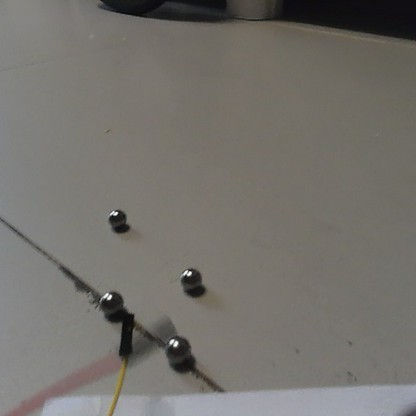ironball: (164, 333, 196, 368), (94, 287, 128, 319), (178, 265, 205, 293), (104, 204, 128, 232)
